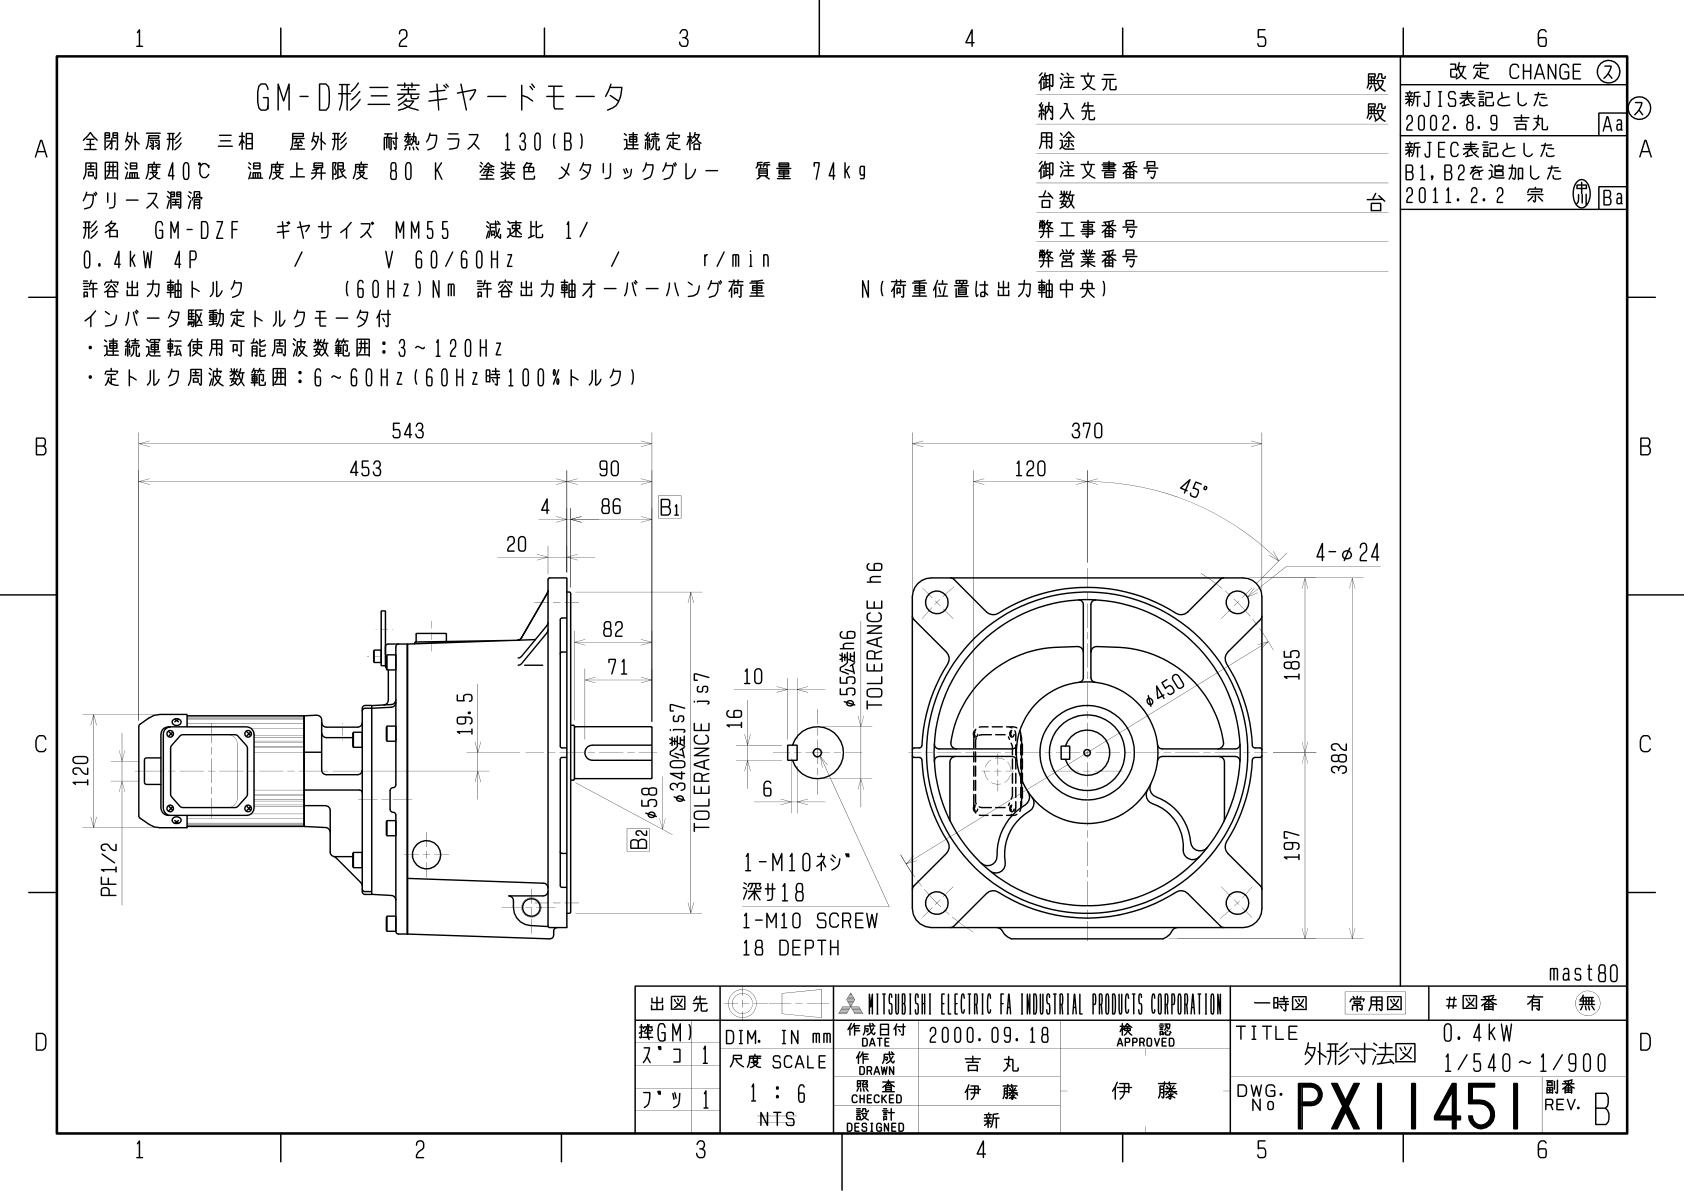GM_D_インバータ屋外_三相_フランジ: (55, 391, 1386, 978)
